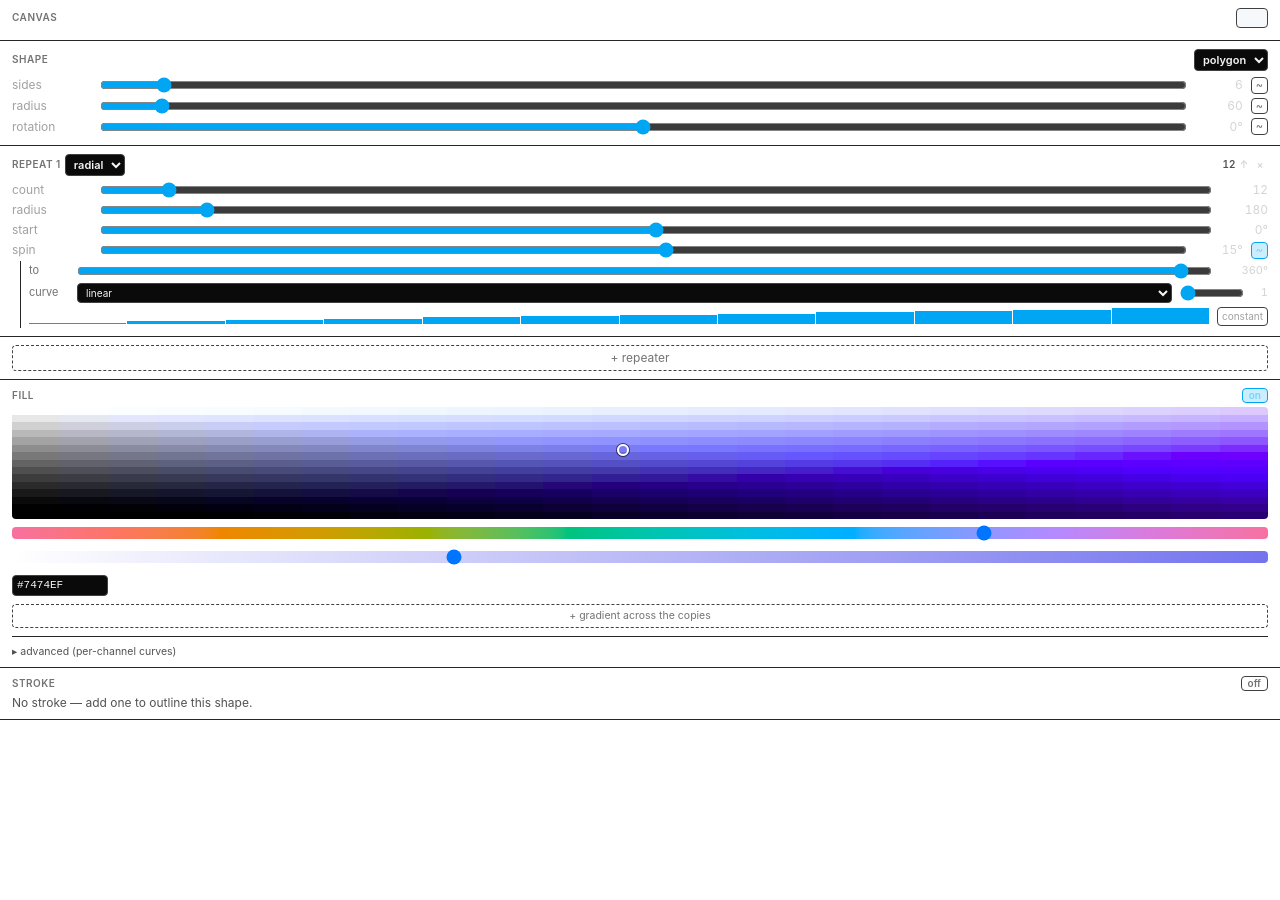
Test: Inspector › turns a modulated field back into a constant
The width and height of the screenshot is (1280, 900).
Click the button with aria-label "repeat 1 spin make constant" at (1242, 316), box [1217,307,1268,326]
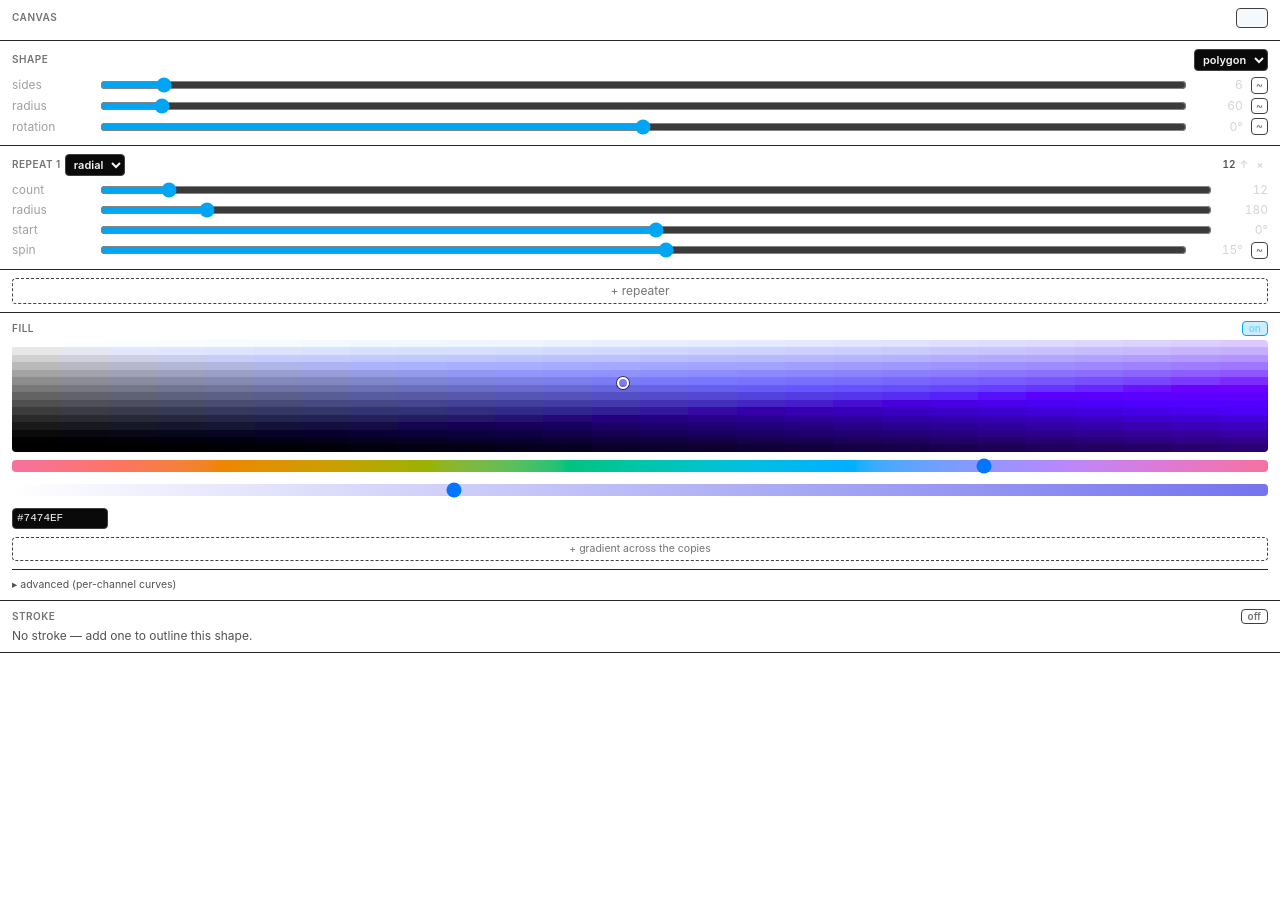
Expected: the slider named "repeat 1 spin" holds "15", [100,242,1187,258]
Expected: the slider labelled "repeat 1 spin to" is gone
